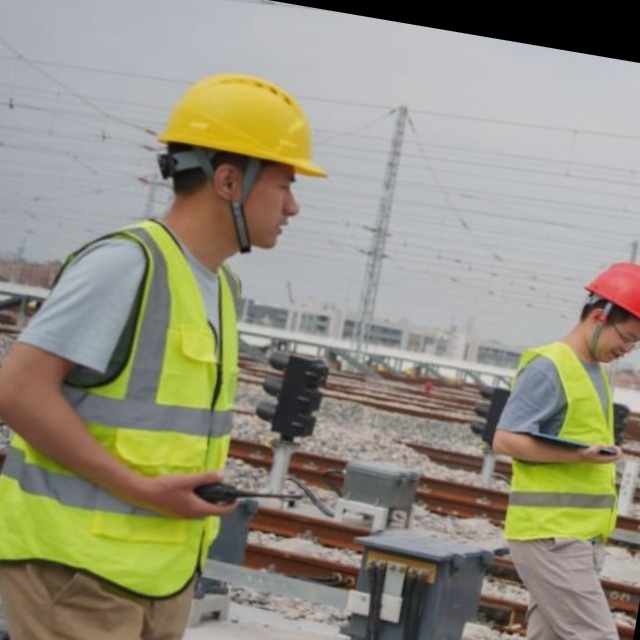Con_Casco: (142, 66, 341, 267), (576, 257, 640, 376)
Con_Chaleco: (0, 215, 274, 603), (485, 341, 640, 561)
